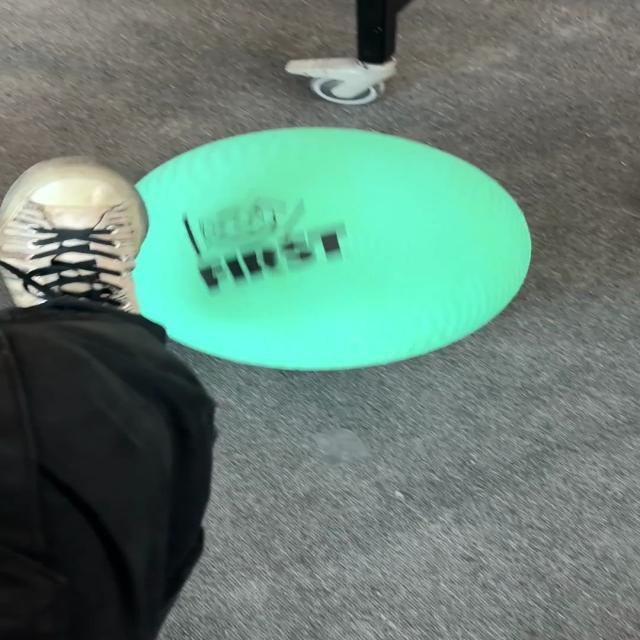Algae: (130, 125, 533, 372)
